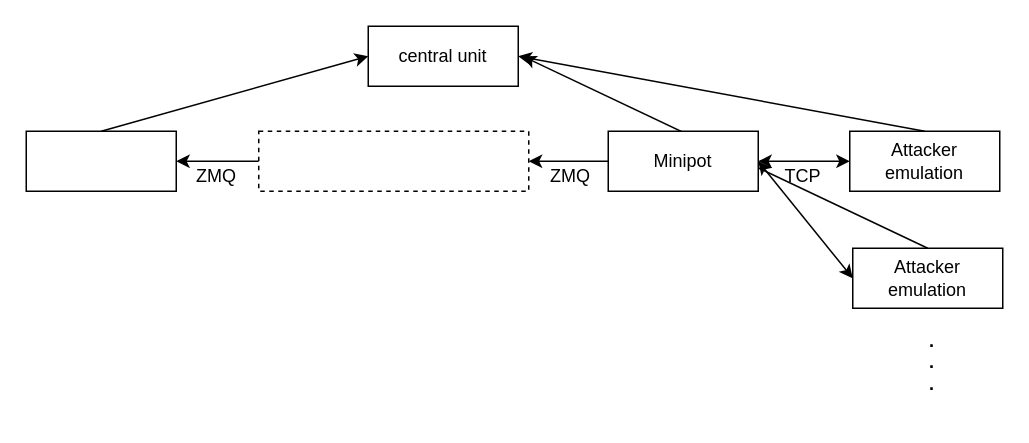
This 1029x443 diagram has some shape labels left out. The shapes that lost their labels are listed below. From the top down, each one's box as (x1, y1, x2, y2) in pixels, then its label:
(25, 130, 176, 191): Output capture
(257, 130, 529, 191): Sentinel pipeline
